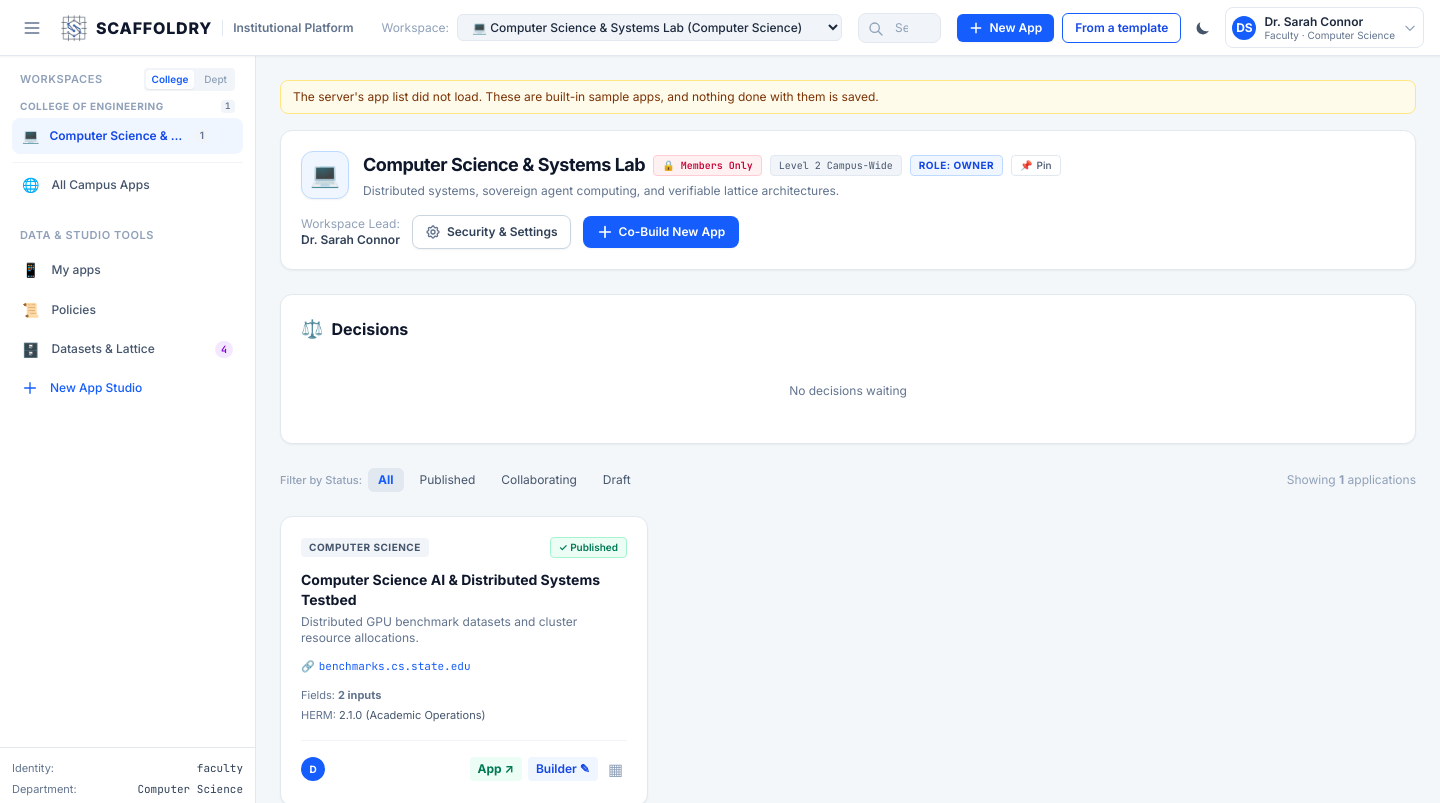
Test: New App creates the app on the server, and says only what happened › says the app was not created when the server refuses
The width and height of the screenshot is (1440, 803).
Click the button "New App". click: point(1006, 28)
box: [958, 14, 1054, 42]
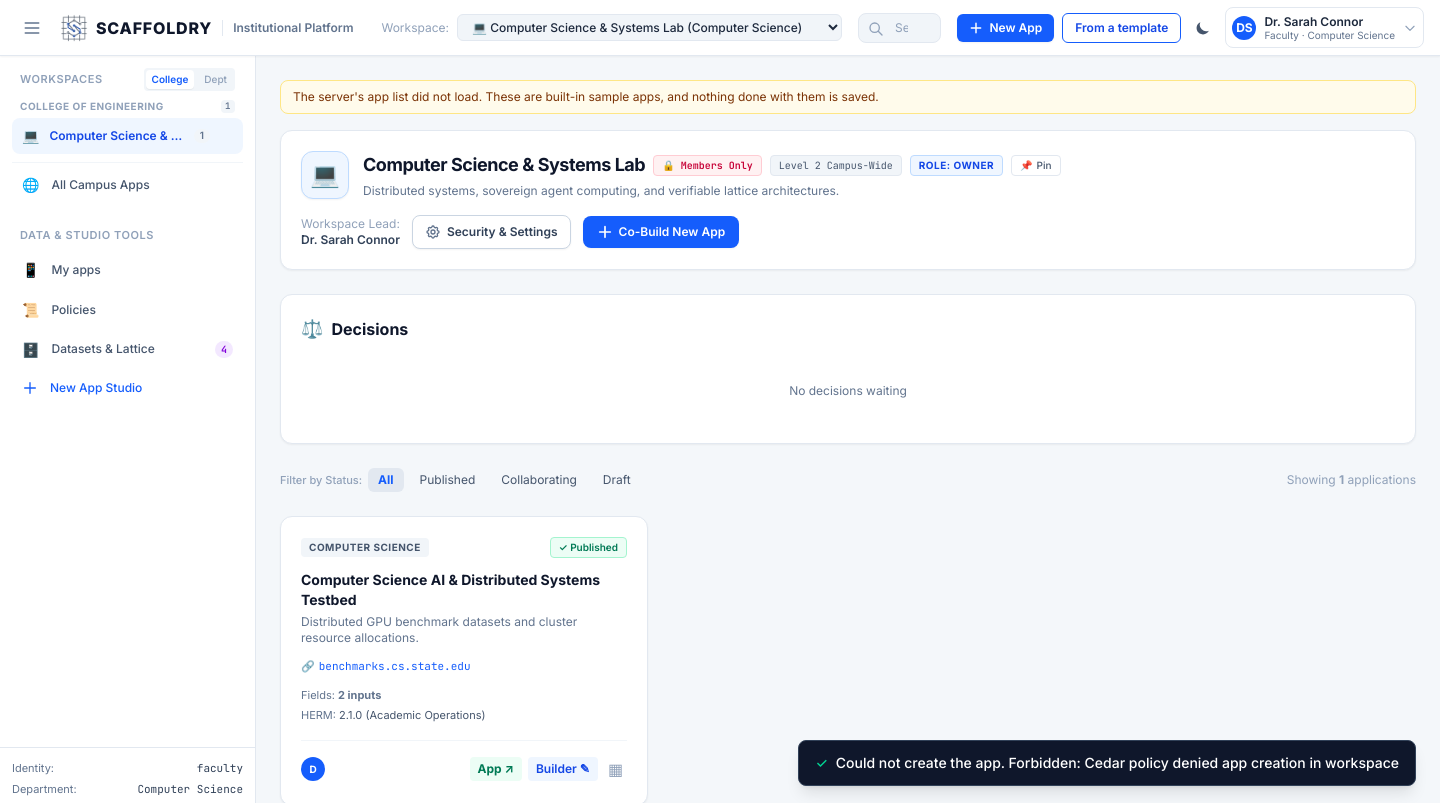
Expected: the text "Could not create the app" is shown, [836, 754, 1399, 771]
